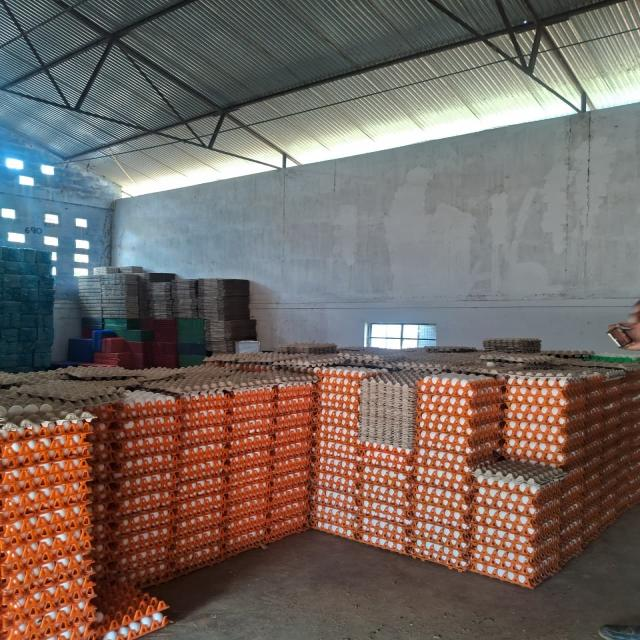egg_tray: (118, 387, 301, 580), (510, 375, 637, 555), (1, 420, 94, 640), (412, 375, 502, 570), (94, 390, 179, 585), (225, 380, 314, 554), (358, 443, 469, 568), (94, 416, 177, 583), (174, 390, 250, 572), (470, 460, 564, 586), (563, 380, 630, 545), (312, 442, 412, 552), (173, 390, 231, 574), (311, 367, 373, 538), (414, 443, 494, 568), (502, 374, 605, 466), (3, 528, 91, 630), (224, 386, 276, 555), (161, 366, 314, 421), (267, 380, 315, 541), (267, 381, 315, 541), (93, 391, 179, 480), (417, 376, 501, 460), (99, 497, 173, 586), (94, 440, 177, 518), (175, 444, 225, 572), (3, 570, 94, 640), (417, 374, 503, 448), (311, 406, 358, 538), (357, 442, 413, 552), (93, 507, 172, 584), (225, 481, 308, 554), (599, 378, 639, 529), (583, 424, 632, 544), (3, 528, 89, 596), (3, 576, 94, 640), (415, 423, 499, 492), (311, 424, 359, 537), (145, 365, 314, 397), (412, 480, 471, 570), (0, 416, 91, 474), (470, 532, 564, 588), (89, 404, 118, 583), (93, 461, 175, 524), (412, 483, 471, 570), (474, 460, 565, 516), (173, 476, 225, 574), (469, 534, 563, 588), (225, 448, 272, 555), (360, 371, 421, 448), (311, 441, 359, 538), (411, 490, 469, 570), (266, 439, 311, 542), (312, 406, 357, 508), (180, 390, 232, 478), (91, 582, 168, 640), (413, 454, 474, 526), (0, 388, 102, 431), (561, 393, 619, 468), (312, 440, 359, 530), (415, 405, 501, 454), (0, 377, 133, 408), (0, 405, 103, 445), (0, 388, 93, 432), (503, 416, 584, 466), (314, 370, 360, 458), (95, 430, 179, 478), (311, 454, 359, 538), (416, 411, 501, 458), (115, 518, 173, 585), (469, 546, 561, 588), (315, 370, 365, 444), (173, 506, 226, 575), (115, 522, 173, 583), (418, 374, 503, 415), (174, 498, 222, 570), (473, 500, 561, 538), (112, 412, 181, 460), (273, 384, 315, 461), (419, 374, 503, 412), (562, 408, 608, 477), (410, 518, 470, 570), (265, 476, 309, 542), (273, 414, 312, 488), (177, 428, 228, 483), (221, 496, 267, 556), (414, 452, 473, 498), (358, 442, 413, 490), (272, 422, 311, 488), (205, 352, 347, 370), (114, 389, 183, 426), (594, 459, 628, 534), (360, 402, 415, 448), (225, 496, 267, 556), (47, 366, 183, 384), (89, 404, 117, 491), (621, 372, 639, 506), (561, 466, 585, 563), (311, 470, 359, 518), (313, 367, 377, 403), (181, 406, 231, 451), (583, 473, 613, 545), (115, 390, 182, 422), (394, 352, 483, 376), (85, 388, 131, 434), (227, 414, 275, 458), (314, 405, 357, 454), (357, 514, 411, 552), (367, 359, 429, 390), (313, 364, 377, 394), (601, 380, 625, 458), (310, 500, 359, 538), (275, 412, 314, 458), (270, 353, 347, 376), (274, 443, 311, 488), (225, 450, 271, 486), (231, 386, 276, 422), (204, 358, 278, 379), (182, 390, 230, 422), (617, 374, 639, 442), (85, 398, 123, 436), (254, 354, 333, 372), (276, 380, 315, 414), (119, 509, 172, 534), (314, 430, 356, 460), (267, 514, 309, 542), (479, 351, 551, 366), (204, 358, 279, 372), (0, 370, 58, 388), (277, 496, 303, 536), (561, 522, 584, 567), (338, 346, 387, 366), (278, 376, 315, 402), (203, 352, 262, 368), (318, 389, 359, 412), (620, 371, 639, 416), (483, 338, 541, 352), (283, 381, 310, 410), (585, 352, 639, 366), (417, 345, 478, 356), (277, 343, 337, 354), (629, 442, 639, 507), (541, 350, 593, 360), (277, 458, 304, 474), (123, 530, 157, 542), (436, 442, 464, 452), (127, 459, 143, 476), (139, 548, 165, 558), (150, 506, 172, 514), (183, 467, 198, 478), (3, 486, 21, 495), (210, 544, 217, 561), (55, 522, 73, 528), (291, 414, 308, 420), (149, 466, 159, 475), (128, 514, 139, 522), (629, 422, 636, 434), (145, 439, 157, 446), (54, 521, 66, 528), (251, 418, 264, 424), (284, 407, 299, 412), (61, 608, 70, 616), (254, 419, 262, 428), (0, 398, 9, 406), (289, 428, 297, 436), (301, 468, 308, 477), (280, 474, 290, 480), (129, 514, 139, 520), (241, 363, 249, 370), (191, 453, 197, 462), (165, 517, 172, 524), (165, 422, 173, 428), (14, 610, 25, 614), (149, 456, 159, 460), (231, 492, 236, 500), (13, 402, 26, 405), (275, 475, 278, 487), (170, 429, 174, 438), (277, 431, 286, 435), (141, 456, 149, 460), (9, 520, 17, 524), (399, 494, 407, 498), (43, 372, 53, 375), (234, 450, 241, 454), (393, 359, 397, 366), (181, 432, 185, 439), (113, 394, 119, 398), (507, 442, 513, 446), (380, 362, 386, 366), (585, 518, 588, 526), (236, 422, 248, 424), (303, 438, 307, 444), (23, 406, 29, 410), (221, 394, 227, 398), (589, 433, 596, 436), (567, 506, 574, 509), (592, 438, 597, 442), (165, 464, 170, 468), (485, 456, 490, 460), (125, 464, 130, 468), (103, 396, 111, 398), (214, 354, 222, 356), (304, 427, 308, 431), (322, 440, 330, 442), (293, 471, 298, 474), (336, 427, 341, 430), (12, 521, 17, 524), (69, 524, 74, 527), (116, 471, 119, 475), (194, 474, 197, 478), (587, 532, 589, 538), (592, 508, 594, 514), (135, 480, 139, 483), (262, 459, 266, 462), (549, 545, 553, 548), (247, 443, 249, 448), (305, 461, 307, 466), (277, 421, 279, 426), (51, 470, 56, 472), (245, 402, 250, 404), (349, 446, 354, 448), (181, 451, 184, 454), (187, 501, 190, 504), (401, 350, 405, 352), (201, 450, 205, 452), (194, 498, 198, 500), (592, 518, 594, 522), (261, 526, 263, 530), (259, 508, 263, 510), (147, 432, 151, 434), (129, 424, 131, 428), (185, 492, 187, 496), (155, 385, 159, 387), (295, 434, 299, 436), (325, 399, 327, 402), (242, 487, 245, 489), (212, 540, 215, 542), (543, 462, 549, 463), (161, 481, 163, 484), (165, 478, 167, 481), (279, 448, 282, 450), (63, 452, 65, 455), (216, 374, 219, 376), (304, 449, 306, 452), (138, 433, 143, 434), (368, 350, 373, 351), (105, 400, 109, 401), (520, 428, 522, 430), (195, 562, 197, 564), (99, 486, 101, 488), (71, 508, 73, 510), (199, 502, 201, 504), (197, 505, 201, 506), (561, 432, 563, 434), (109, 546, 111, 548), (135, 478, 137, 480), (390, 496, 392, 498), (508, 412, 511, 413), (162, 418, 164, 419), (120, 430, 121, 432), (389, 405, 391, 406), (0, 415, 2, 416), (116, 489, 117, 490), (100, 443, 102, 443), (141, 459, 144, 459), (440, 461, 441, 461), (339, 532, 342, 532), (327, 430, 328, 430), (22, 630, 23, 630), (168, 559, 170, 559), (262, 505, 263, 505), (137, 480, 138, 480), (148, 476, 151, 476), (146, 452, 150, 452), (262, 443, 264, 443), (182, 387, 184, 387), (115, 405, 117, 405), (43, 405, 46, 405), (97, 562, 97, 564), (43, 583, 44, 583), (30, 505, 32, 505), (375, 350, 378, 350), (399, 352, 406, 352), (248, 421, 250, 421), (343, 443, 343, 443), (631, 370, 632, 370), (625, 367, 625, 368)
